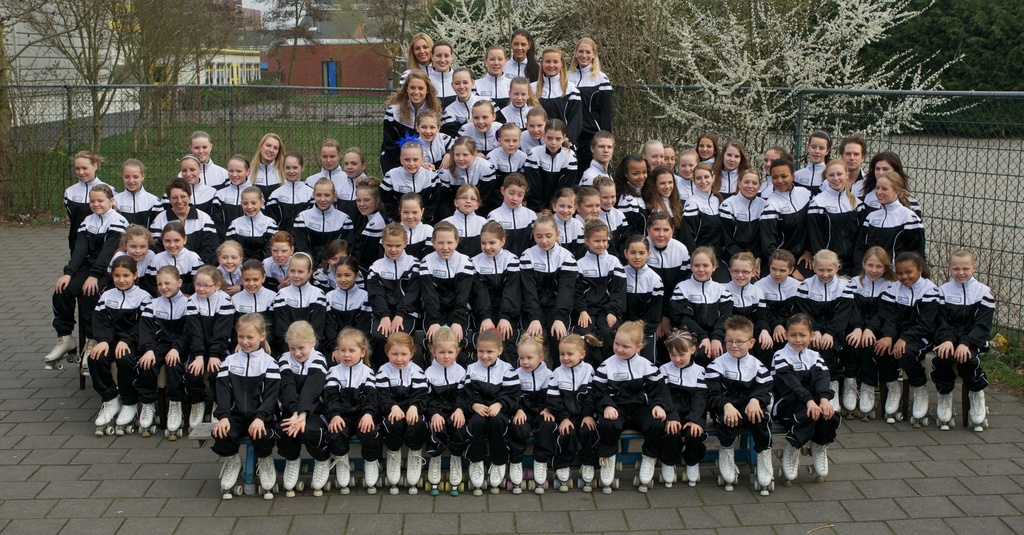Person: (43, 28, 995, 489)
